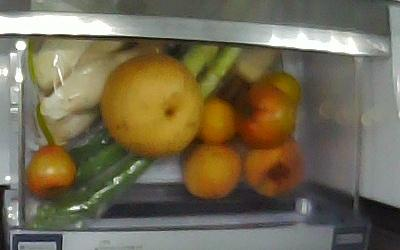peach: (242, 135, 304, 196), (184, 145, 245, 197)
pear: (100, 56, 203, 155)
tangerine: (198, 98, 239, 147), (267, 72, 300, 102)
tomato: (239, 84, 296, 144), (24, 146, 78, 200)
